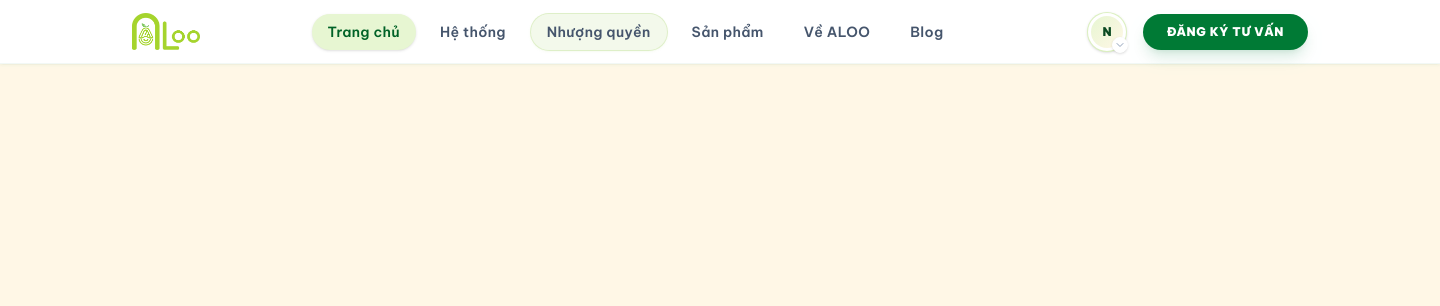
Test: Navbar › uses the admin avatar identity when authenticated
Click the button "N" at (1107, 32), box [1087, 12, 1127, 52]
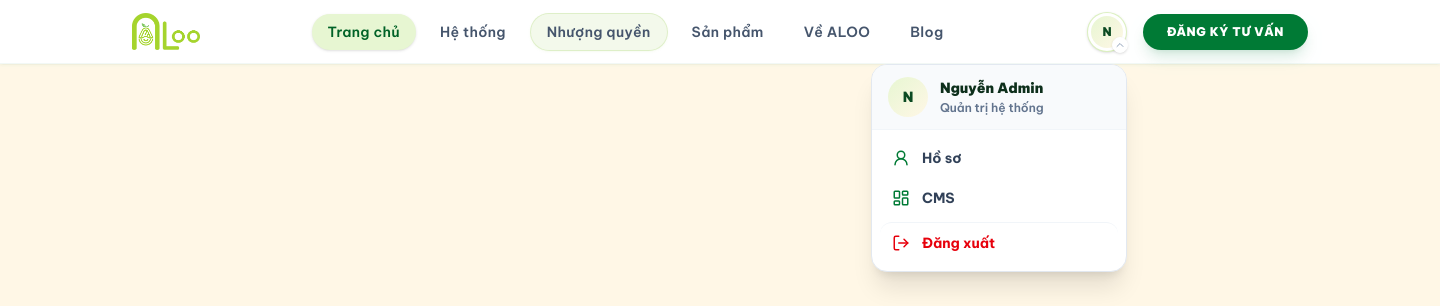
Check: the menu shows "Nguyễn Admin", box [940, 78, 1043, 96]
Check: the menu item to "/admin/profile" reads "Hồ sơ", box [892, 148, 962, 166]
Check: the menu item to "/admin" reads "CMS", box [892, 188, 955, 206]
